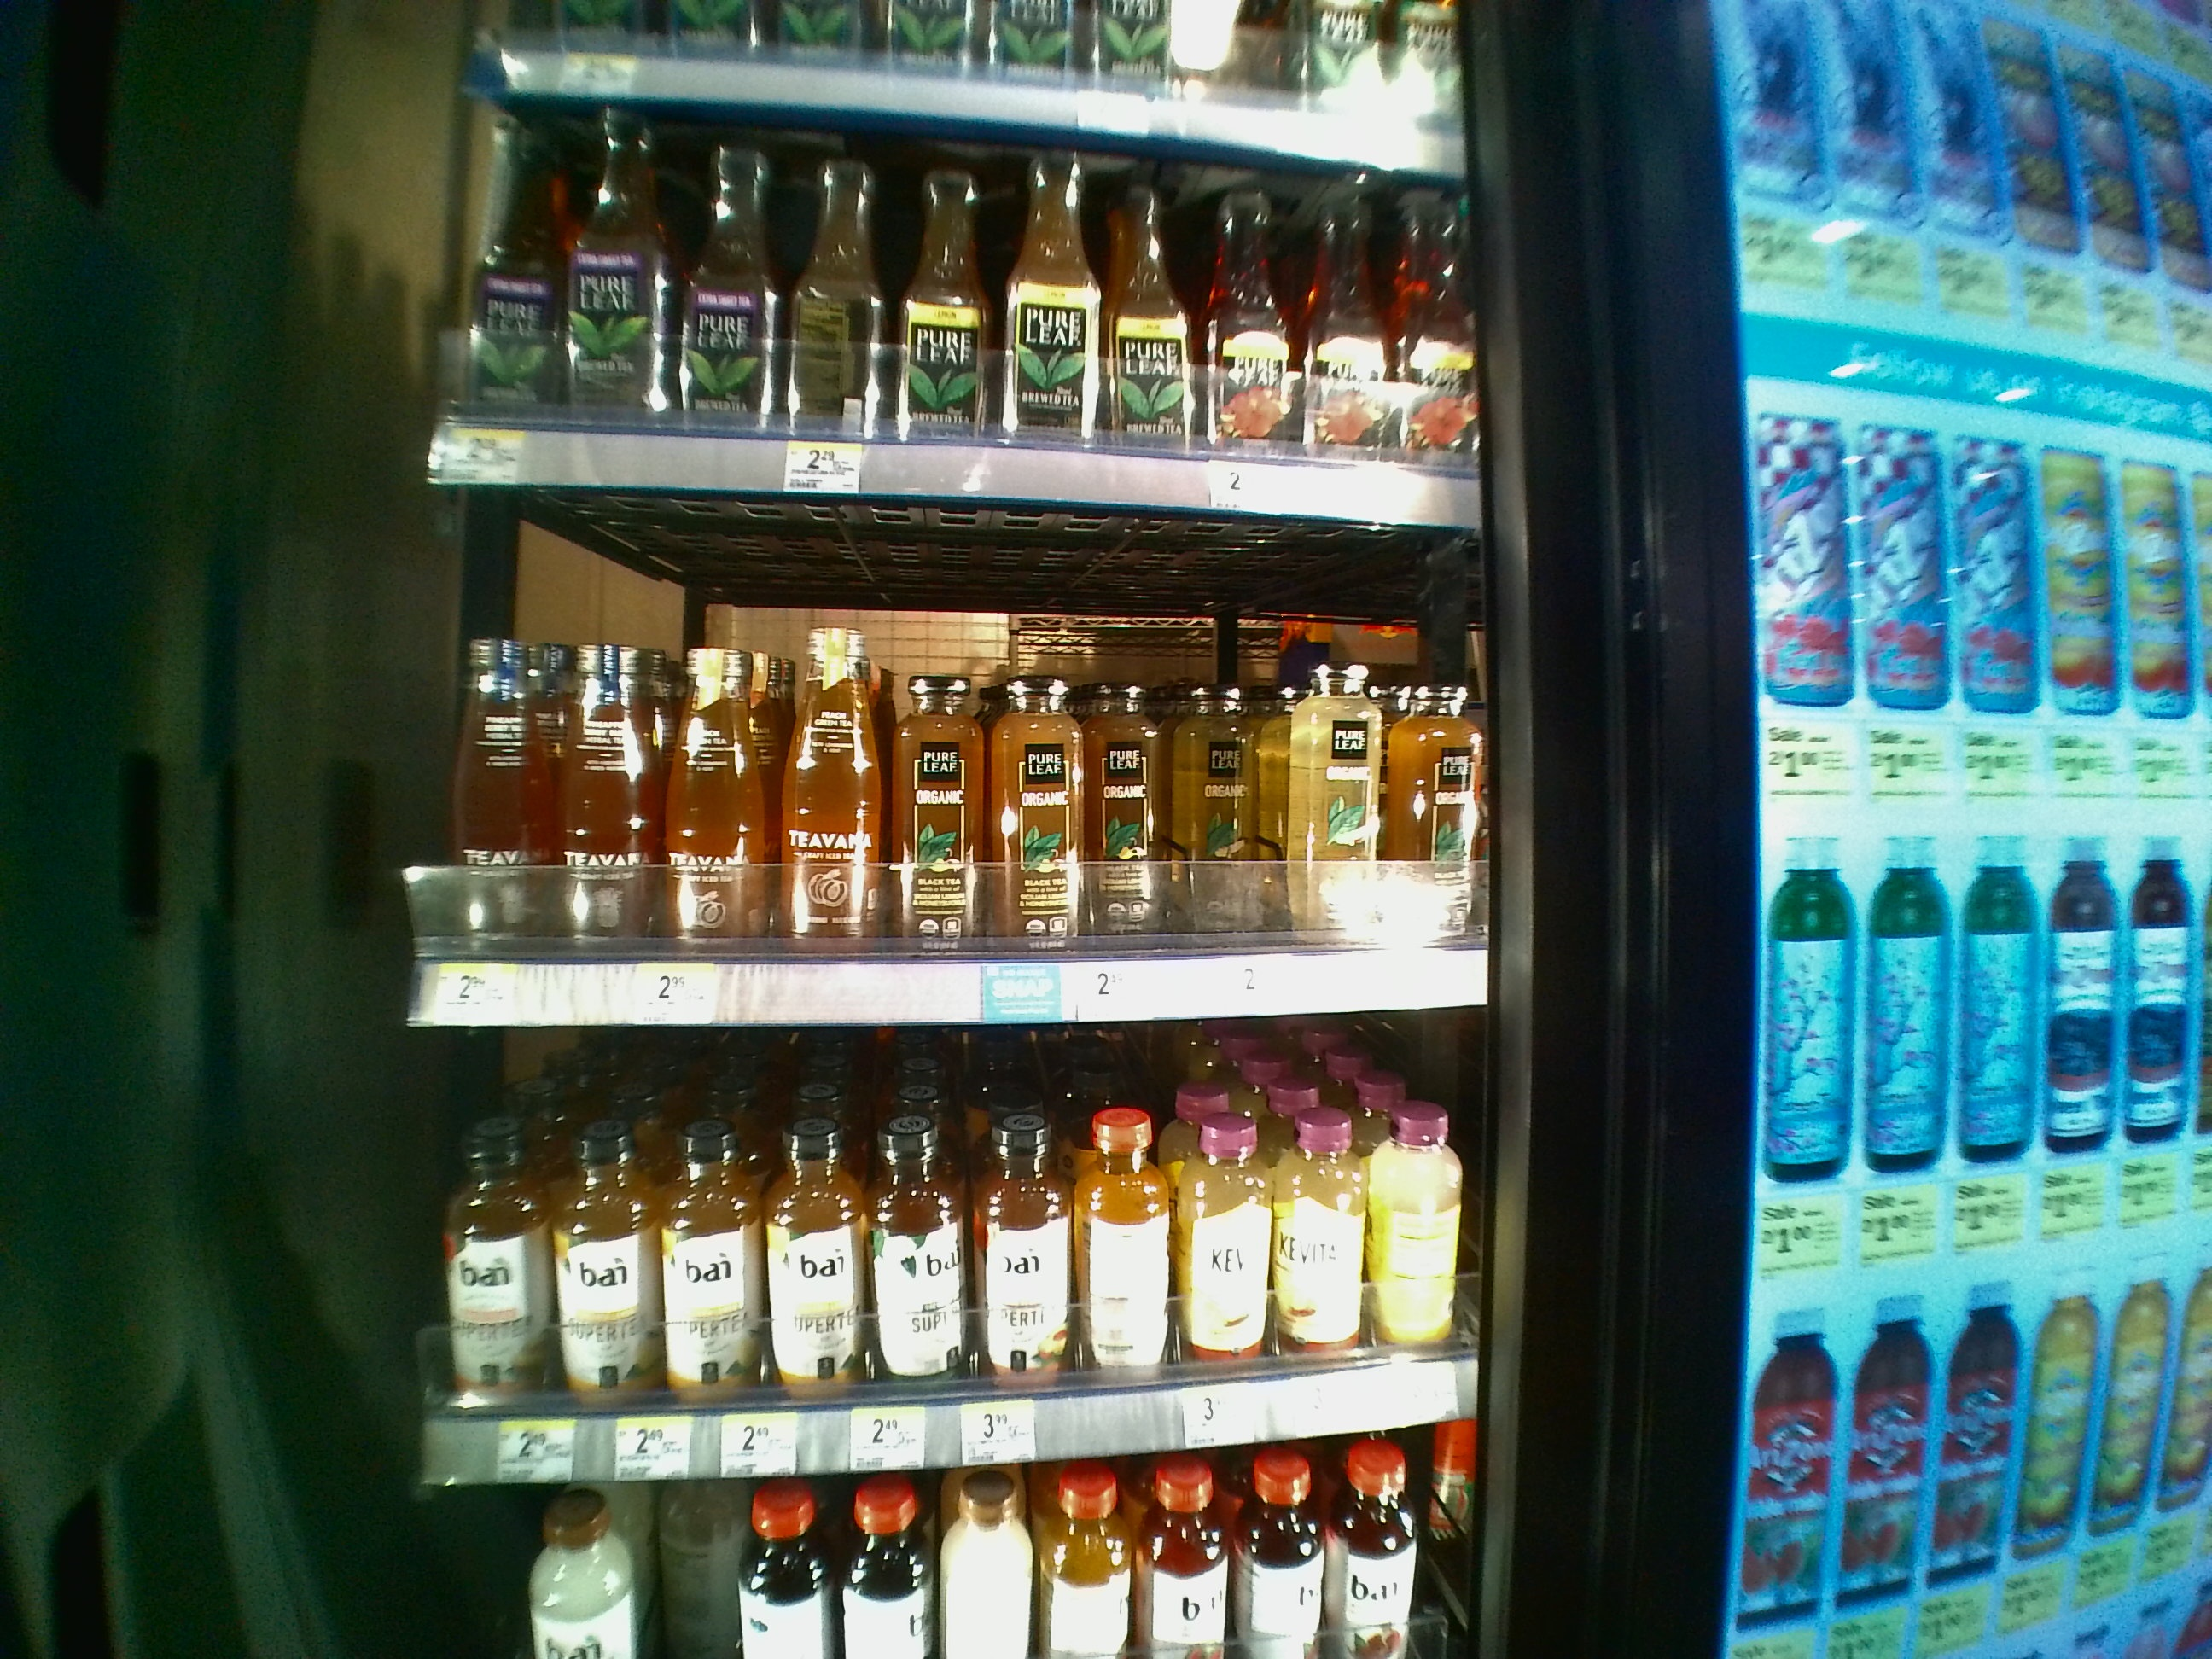shelf: (425, 490, 1496, 1023), (409, 1040, 1503, 1481), (432, 99, 1484, 486)
